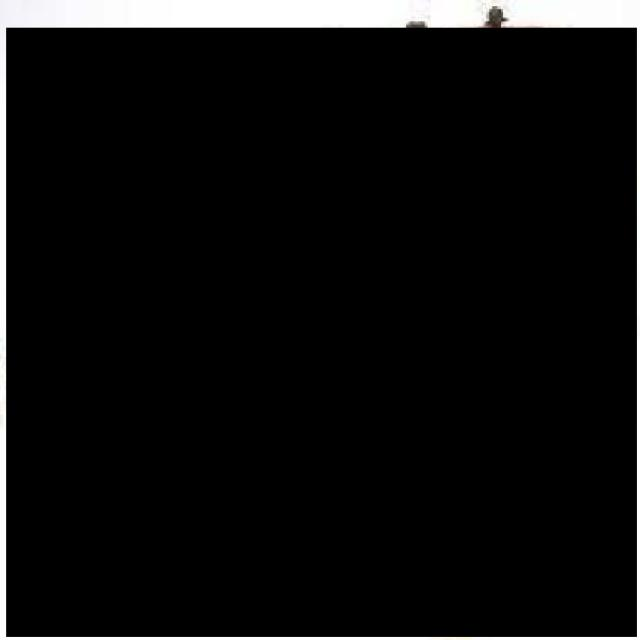Ham: (6, 28, 637, 638)
